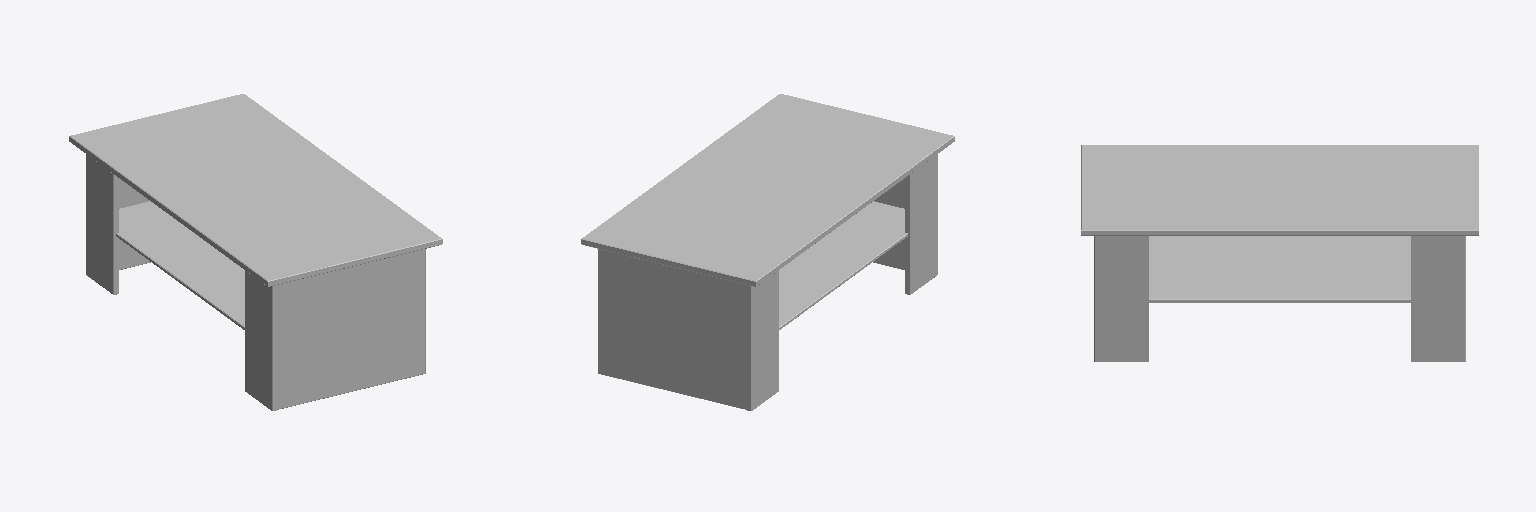
The model's file is desk2.obj.
The picture shows the model from 3 angles: view 1: azimuth 30°, elevation 25°; view 2: azimuth 150°, elevation 25°; view 3: azimuth 270°, elevation 25°; orthographic projection.
Visible parts, largest first — view 1: BENNO2; view 2: BENNO2; view 3: BENNO2.
Boxes of the visible parts, x1=… form: BENNO2: x1=69, y1=94, x2=442, y2=410; BENNO2: x1=581, y1=94, x2=954, y2=410; BENNO2: x1=1081, y1=145, x2=1478, y2=361.
Bounding box in the file's own units: 60 × 45 × 118.